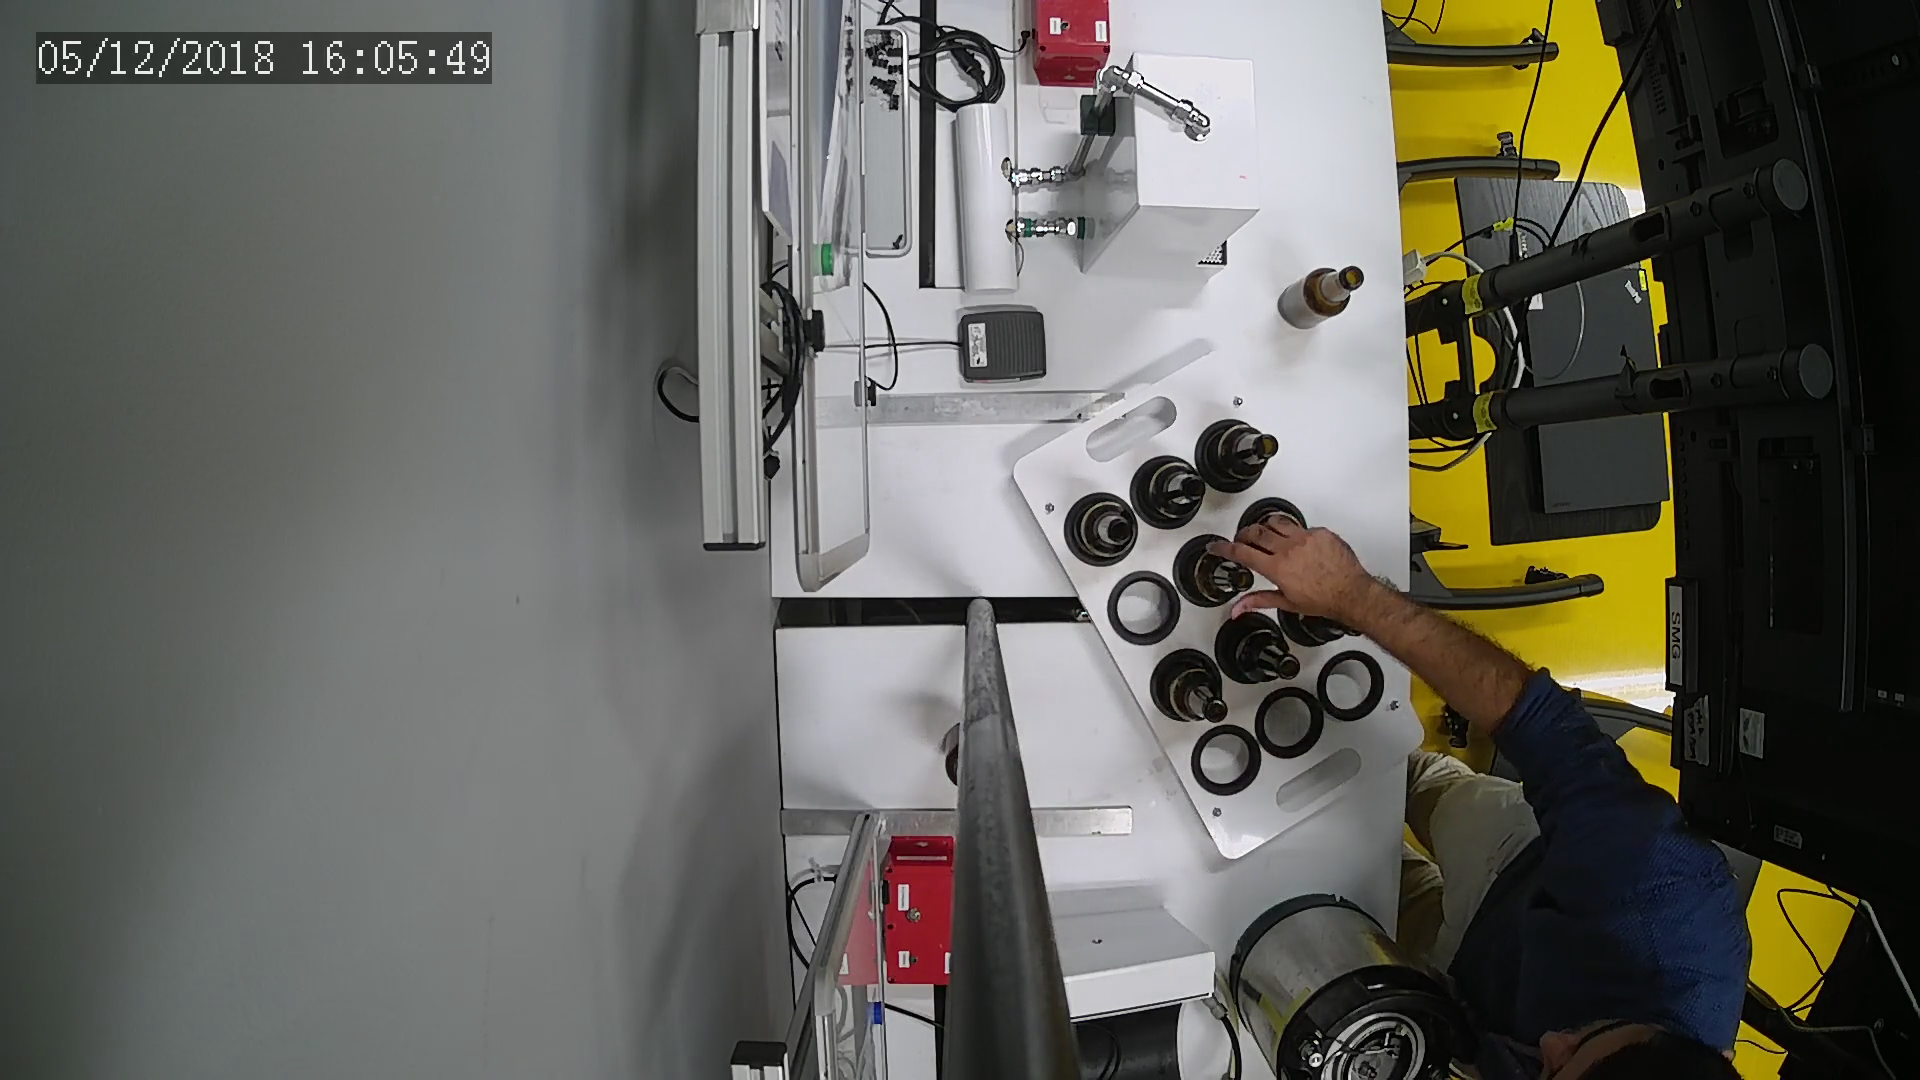filled_bottle: (1010, 349, 1435, 865), (1151, 645, 1233, 728), (1060, 491, 1143, 570), (1170, 535, 1258, 605), (1131, 455, 1211, 531), (1216, 613, 1298, 686), (1204, 418, 1279, 488)
unfilled_bottle: (1278, 262, 1370, 328)
